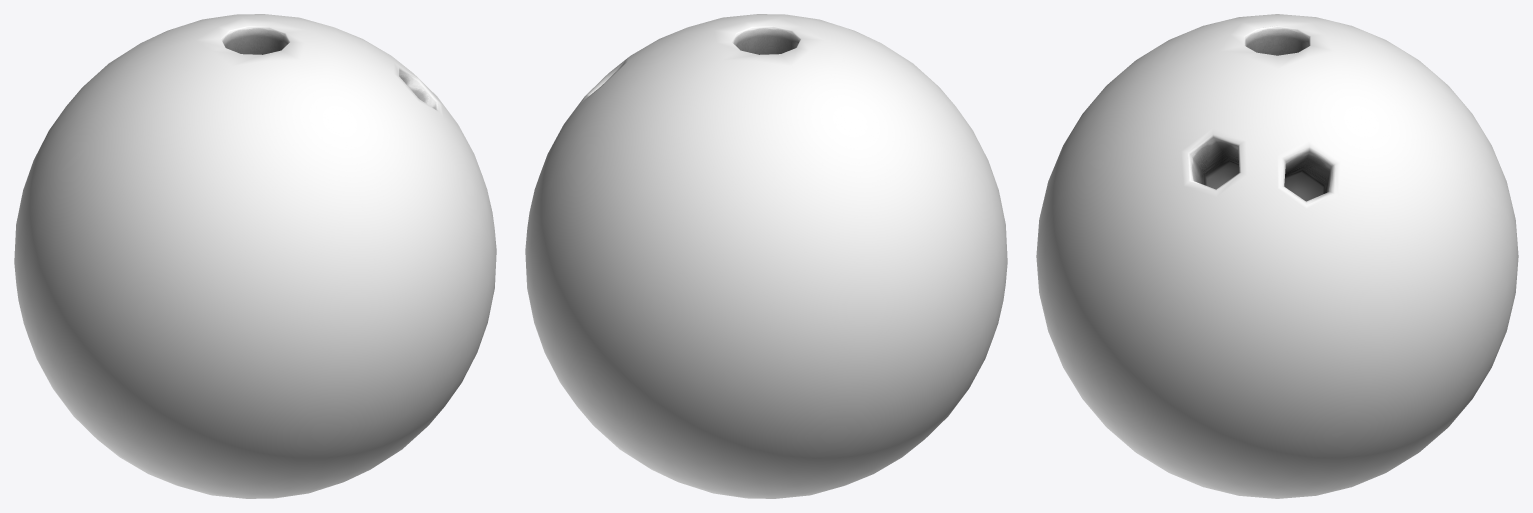
File: BowlingBall.glb
3 renders of one model, left to right at view 1: azimuth 30°, elevation 25°; view 2: azimuth 150°, elevation 25°; view 3: azimuth 270°, elevation 25°, orthographic.
Visible parts, largest first — view 1: Bowling Ball; view 2: Bowling Ball; view 3: Bowling Ball.
Boxes of the visible parts, bbox=[...] form: Bowling Ball: bbox=[14, 14, 496, 498]; Bowling Ball: bbox=[525, 14, 1007, 498]; Bowling Ball: bbox=[1036, 14, 1518, 498].
Size of the model in its own units: 0.1609 by 0.1604 by 0.1608.
1 material, 1 textured.
